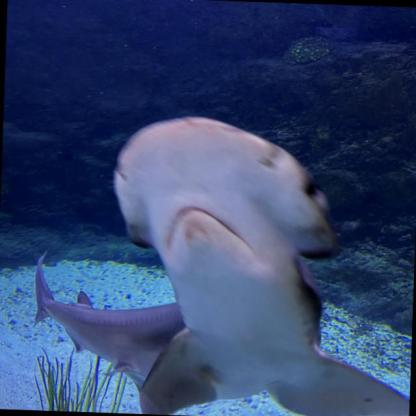shark: (28, 110, 416, 416)
